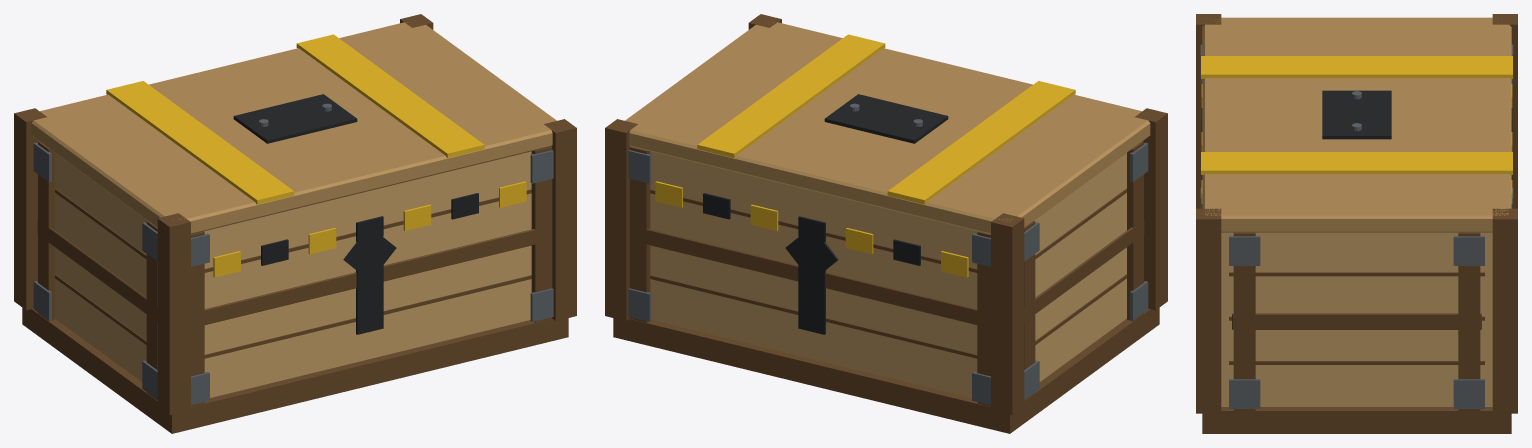
Rendered from city_crate.glb.
3 views of the same model, side by side, from view 1: azimuth 30°, elevation 25°; view 2: azimuth 150°, elevation 25°; view 3: azimuth 270°, elevation 25° (orthographic). The views are drawn at different scales.
Parts seen in each view (by area): view 1: LidBoard, Panel.001, Pallet, Panel.003, Post, LidStripe2, LidStripe1, Brace.001, Post.002, Post.001, LidPlate, Rail.003 (+20 smaller); view 2: LidBoard, Panel, Pallet, Panel.003, Post.001, LidStripe2, LidStripe1, Brace, Post.003, Post, LidPlate, Rail.001 (+20 smaller); view 3: LidBoard, Panel.002, Pallet, LidStripe1, LidStripe2, Post.002, Post.003, Brace.002, LidPlate, Rail.004, Rail.005, Post (+9 smaller).
Boxes of the visible parts, bbox=[...] form: LidBoard: bbox=[31, 22, 556, 234]; Panel.001: bbox=[204, 151, 531, 397]; Pallet: bbox=[22, 307, 568, 433]; Panel.003: bbox=[55, 153, 147, 381]; Post: bbox=[157, 213, 190, 415]; LidStripe2: bbox=[296, 34, 484, 157]; LidStripe1: bbox=[106, 81, 294, 204]; Brace.001: bbox=[191, 229, 535, 328]; Post.002: bbox=[544, 119, 576, 320]; Post.001: bbox=[14, 108, 46, 310]; LidPlate: bbox=[233, 94, 357, 143]; Rail.003: bbox=[531, 146, 552, 322]; LidBoard: bbox=[625, 22, 1150, 234]; Panel: bbox=[650, 151, 977, 397]; Pallet: bbox=[613, 307, 1159, 433]; Panel.003: bbox=[1034, 153, 1126, 381]; Post.001: bbox=[991, 213, 1024, 415]; LidStripe2: bbox=[697, 34, 885, 157]; LidStripe1: bbox=[887, 81, 1075, 204]; Brace: bbox=[636, 228, 990, 328]; Post.003: bbox=[605, 119, 637, 320]; Post: bbox=[1135, 108, 1167, 310]; LidPlate: bbox=[824, 94, 948, 143]; Rail.001: bbox=[629, 146, 650, 322]; LidBoard: bbox=[1202, 17, 1511, 232]; Panel.002: bbox=[1225, 232, 1488, 406]; Pallet: bbox=[1202, 407, 1511, 433]; LidStripe1: bbox=[1201, 56, 1512, 78]; LidStripe2: bbox=[1201, 152, 1512, 174]; Post.002: bbox=[1196, 208, 1221, 413]; Post.003: bbox=[1492, 208, 1517, 413]; Brace.002: bbox=[1232, 313, 1481, 329]; LidPlate: bbox=[1322, 90, 1391, 139]; Rail.004: bbox=[1233, 232, 1255, 410]; Rail.005: bbox=[1458, 232, 1480, 410]; Post: bbox=[1196, 14, 1221, 208].
Size of the model in its own units: 0.77 by 0.393 by 0.51.
